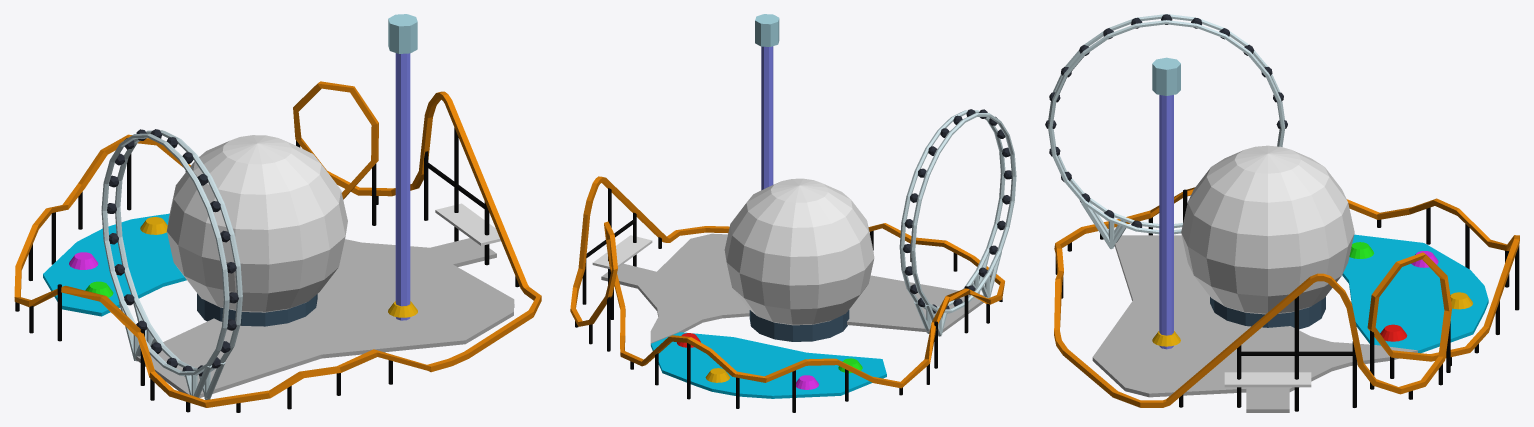
The model's file is Themepark.fbx.
3 renders of one model, left to right at view 1: azimuth 30°, elevation 25°; view 2: azimuth 150°, elevation 25°; view 3: azimuth 270°, elevation 25°, orthographic. The views are drawn at different scales.
Visible parts, largest first — view 1: SphereBuilding, Pathway, CoasterTrack, FerrisWheelStructure, WaterRideLake, DroptowerStructure, CoasterSupports, FerrisWheelGondolas, EntranceRoof; view 2: SphereBuilding, Pathway, WaterRideLake, CoasterTrack, FerrisWheelStructure, CoasterSupports, DroptowerStructure, FerrisWheelGondolas, EntranceRoof; view 3: SphereBuilding, Pathway, CoasterTrack, WaterRideLake, FerrisWheelStructure, DroptowerStructure, CoasterSupports, EntranceRoof, FerrisWheelGondolas.
Boxes of the visible parts, left/top/right/bottom form: SphereBuilding: left=166, top=135, right=347, bottom=326; Pathway: left=135, top=238, right=514, bottom=397; CoasterTrack: left=14, top=81, right=541, bottom=407; FerrisWheelStructure: left=101, top=130, right=242, bottom=399; WaterRideLake: left=43, top=213, right=186, bottom=316; DroptowerStructure: left=388, top=14, right=417, bottom=320; CoasterSupports: left=15, top=128, right=519, bottom=412; FerrisWheelGondolas: left=107, top=129, right=238, bottom=376; EntranceRoof: left=435, top=203, right=500, bottom=245; SphereBuilding: left=724, top=178, right=874, bottom=341; Pathway: left=601, top=233, right=987, bottom=345; WaterRideLake: left=651, top=332, right=886, bottom=398; CoasterTrack: left=570, top=176, right=1004, bottom=388; FerrisWheelStructure: left=899, top=110, right=1016, bottom=336; CoasterSupports: left=575, top=188, right=1002, bottom=412; DroptowerStructure: left=755, top=14, right=779, bottom=190; FerrisWheelGondolas: left=903, top=109, right=1011, bottom=313; EntranceRoof: left=592, top=235, right=652, bottom=268; SphereBuilding: left=1181, top=145, right=1354, bottom=329; Pathway: left=1092, top=235, right=1417, bottom=412; CoasterTrack: left=1054, top=187, right=1519, bottom=407; WaterRideLake: left=1342, top=234, right=1488, bottom=353; FerrisWheelStructure: left=1048, top=14, right=1285, bottom=249; DroptowerStructure: left=1152, top=57, right=1180, bottom=349; CoasterSupports: left=1055, top=189, right=1519, bottom=411; EntranceRoof: left=1224, top=372, right=1311, bottom=387; FerrisWheelGondolas: left=1045, top=14, right=1287, bottom=227.
Size of the model in its own units: 15977 by 11340 by 16405.
